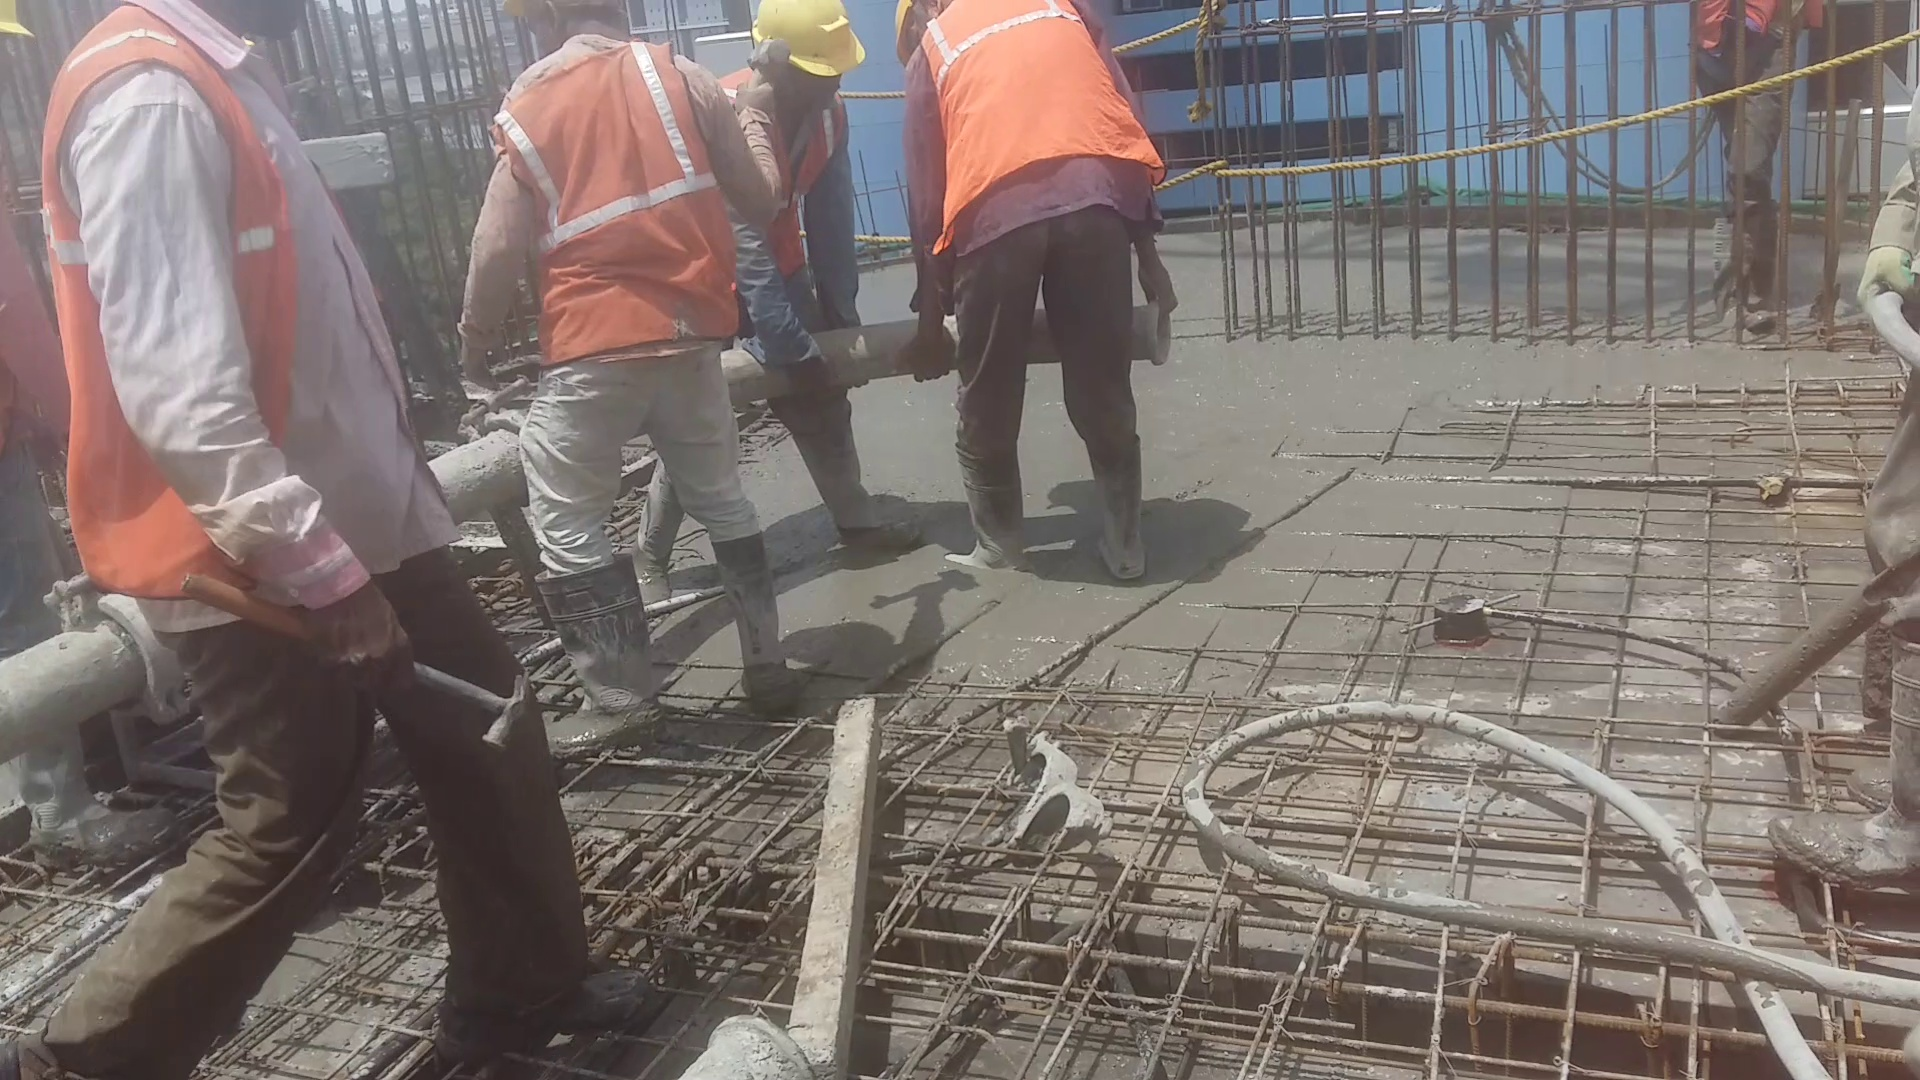SAFE: (738, 3, 858, 305)
